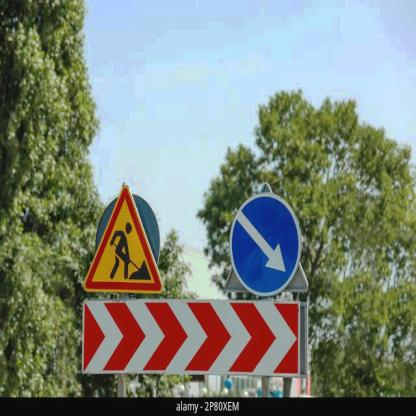Keep right: (231, 190, 306, 300)
